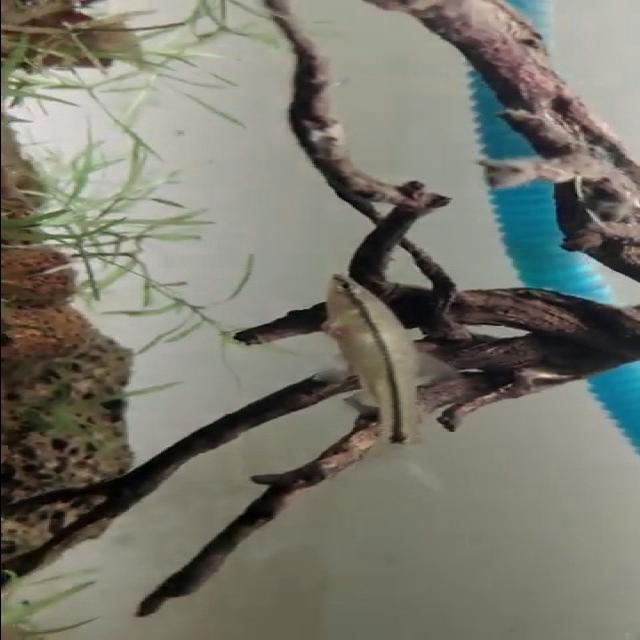Cakil Baligi: (321, 272, 445, 488)
